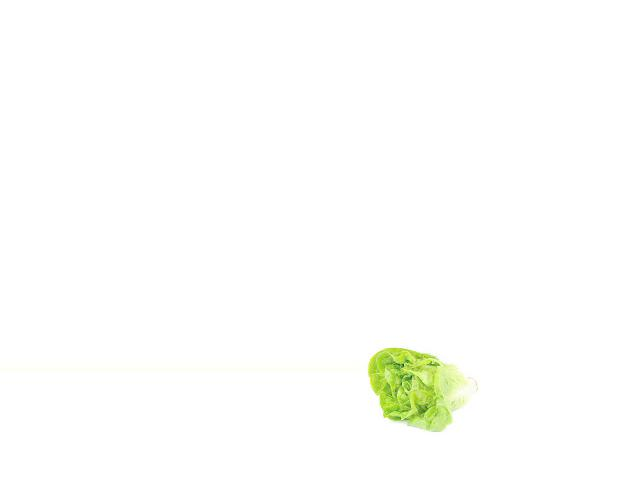lettuce: (367, 345, 481, 438)
